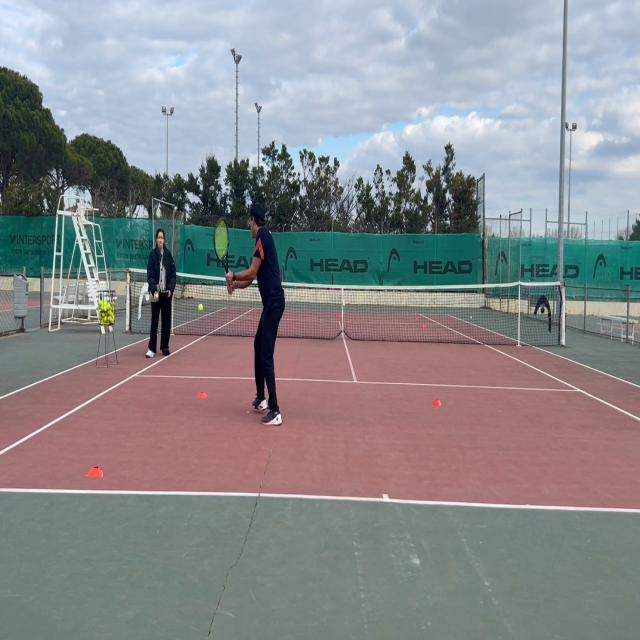ball: (198, 303, 204, 313), (154, 292, 159, 300), (470, 315, 472, 319)
